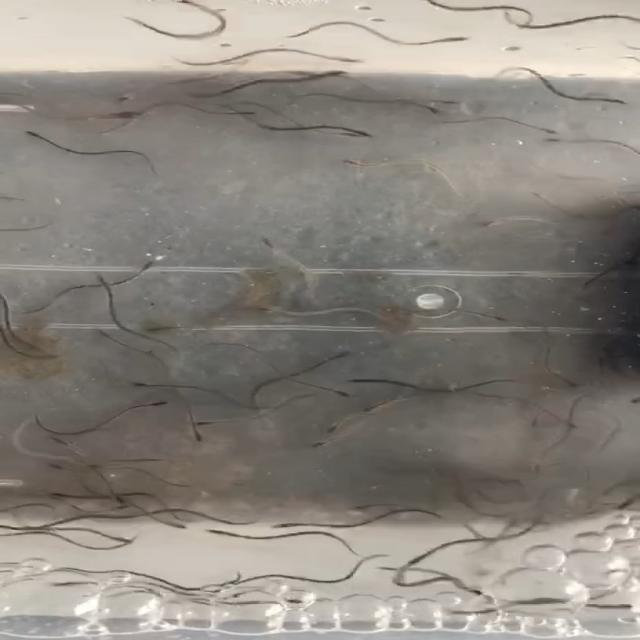active_glass_eel: (425, 34, 476, 48), (313, 51, 366, 63), (325, 348, 355, 367), (309, 68, 348, 82), (201, 530, 250, 541), (595, 92, 632, 106), (45, 434, 77, 450), (110, 90, 142, 105), (320, 420, 350, 436), (537, 134, 580, 145), (420, 103, 446, 121), (51, 456, 77, 474), (313, 437, 344, 452), (154, 514, 187, 528), (255, 233, 278, 253), (137, 396, 172, 409), (323, 384, 353, 399), (252, 302, 289, 314), (339, 156, 373, 169), (521, 124, 557, 136), (479, 214, 506, 230), (475, 310, 510, 322), (87, 325, 116, 339), (110, 110, 150, 120), (184, 428, 209, 444), (341, 128, 374, 140), (43, 491, 79, 502), (19, 126, 48, 139), (359, 402, 388, 415), (125, 376, 151, 390), (90, 270, 110, 288), (432, 97, 466, 107), (51, 575, 79, 587), (276, 519, 303, 531), (560, 374, 580, 390), (532, 455, 551, 471), (136, 260, 156, 275), (527, 415, 548, 429), (108, 532, 134, 543), (188, 420, 216, 430), (223, 109, 262, 116), (141, 328, 175, 336), (556, 418, 578, 430), (115, 487, 128, 503)
